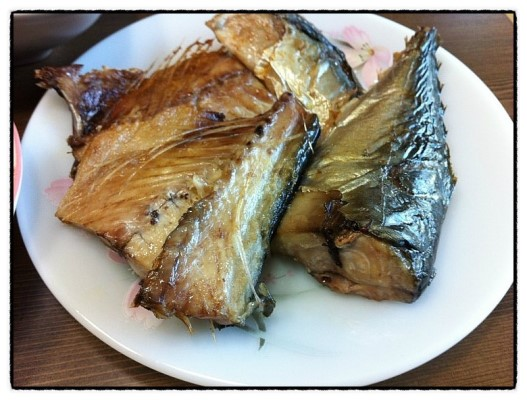godeung-eogu-i: (83, 99, 323, 332), (279, 30, 462, 302)
